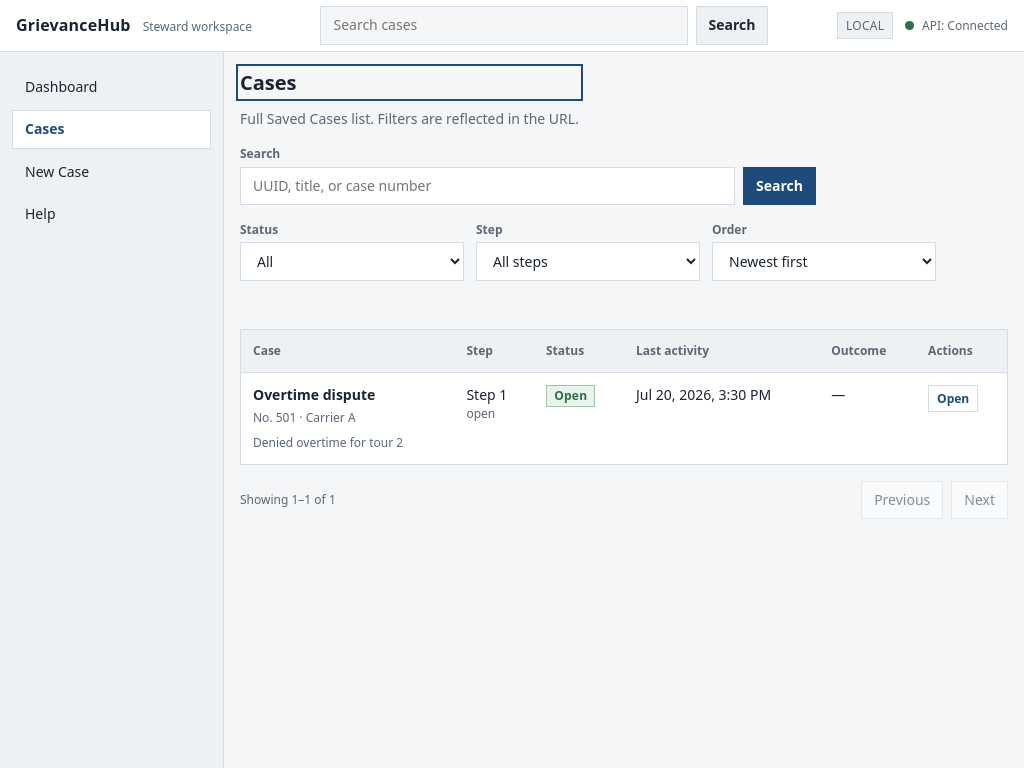
it: Saved Cases M1 › opens an active case and navigates to the workspace entry route
This screenshot has width=1024, height=768.
expect the button named "Open Overtime dispute" is shown: met, box [253,385,442,426]
Click the button "Open": point(953, 398) [928,385,978,412]
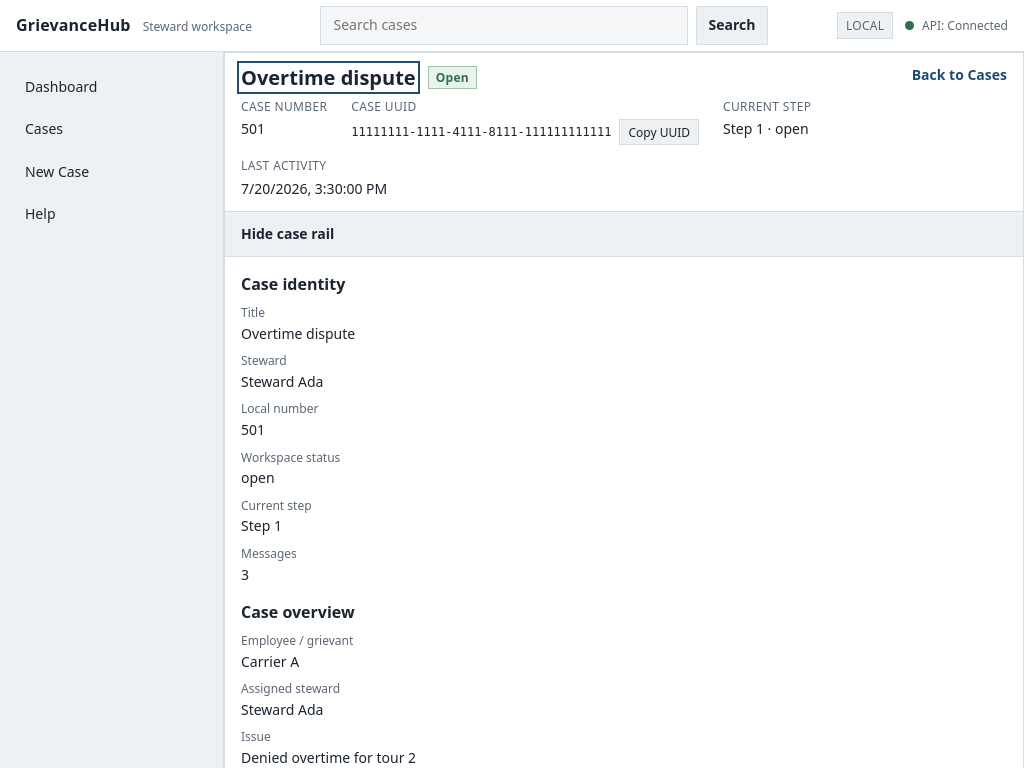
expect the heading "Overtime dispute" is shown: met, box [241,65,416,90]
expect the text "11111111-1111-4111-8111-111111111111" is shown: met, box [351,124,611,141]
